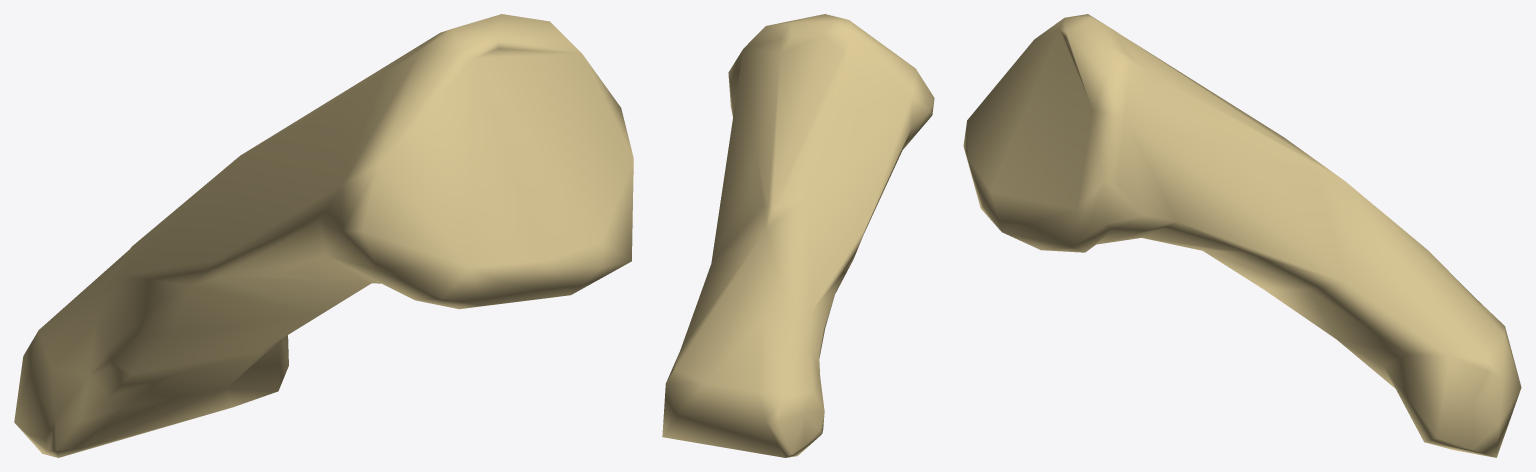
The picture shows the model from 3 angles, left to right: view 1: azimuth 30°, elevation 25°; view 2: azimuth 150°, elevation 25°; view 3: azimuth 270°, elevation 25°; orthographic projection. The views are drawn at different scales.
Visible parts, largest first — view 1: 左侧第五指中节指骨; view 2: 左侧第五指中节指骨; view 3: 左侧第五指中节指骨.
Boxes of the visible parts, <box> form: 左侧第五指中节指骨: <box>14,14,633,457</box>; 左侧第五指中节指骨: <box>662,14,934,457</box>; 左侧第五指中节指骨: <box>963,14,1521,457</box>.
Bounding box in the file's own units: 0.0178 × 0.0255 × 0.0301.
